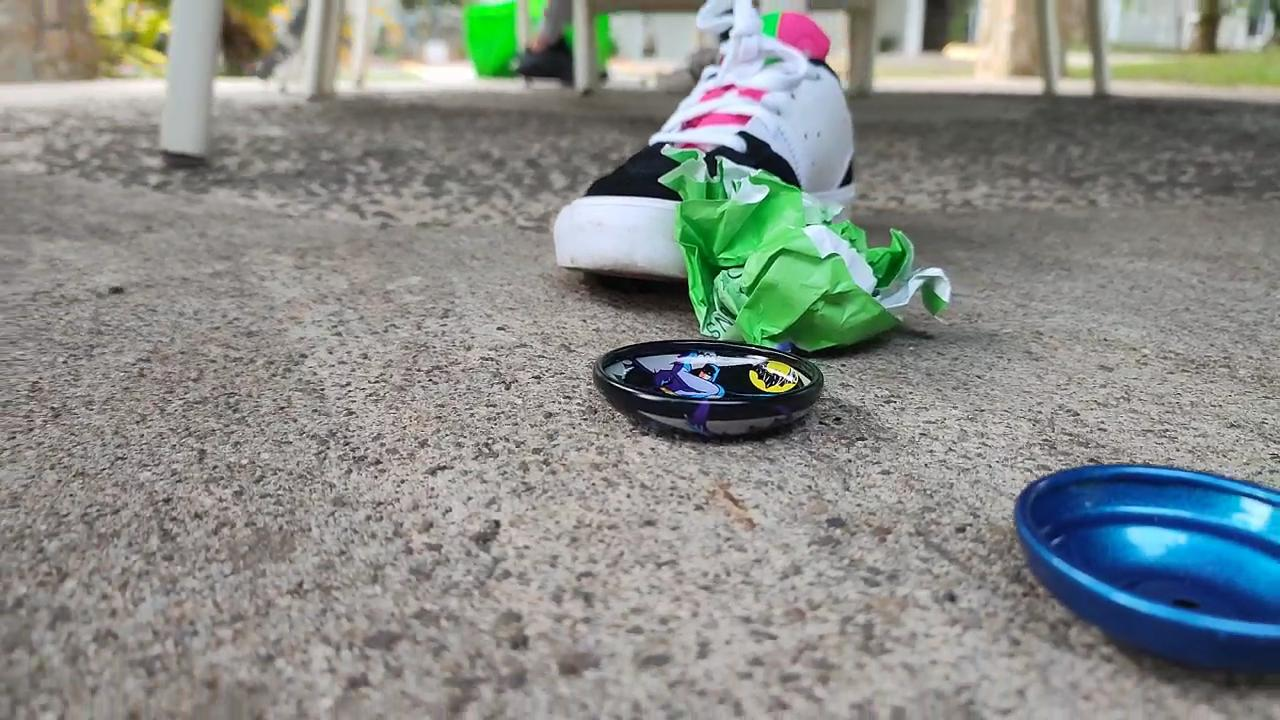Paper: (632, 127, 962, 365)
